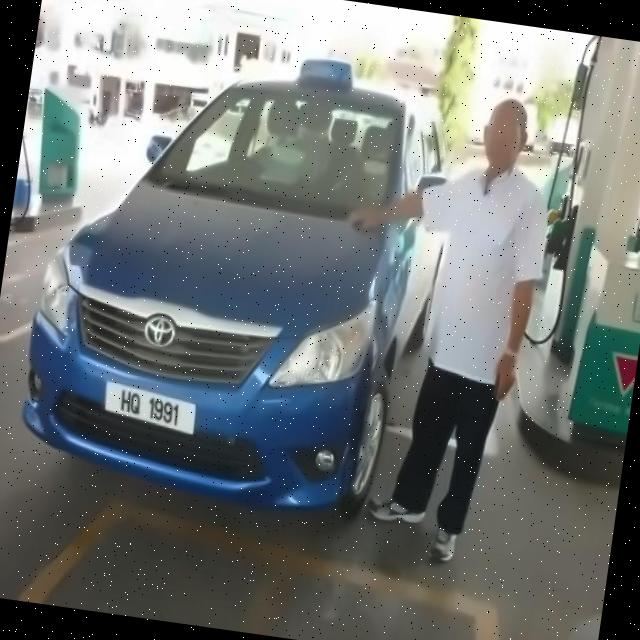License_Plate: (96, 375, 207, 442)
car: (1, 1, 501, 577)
